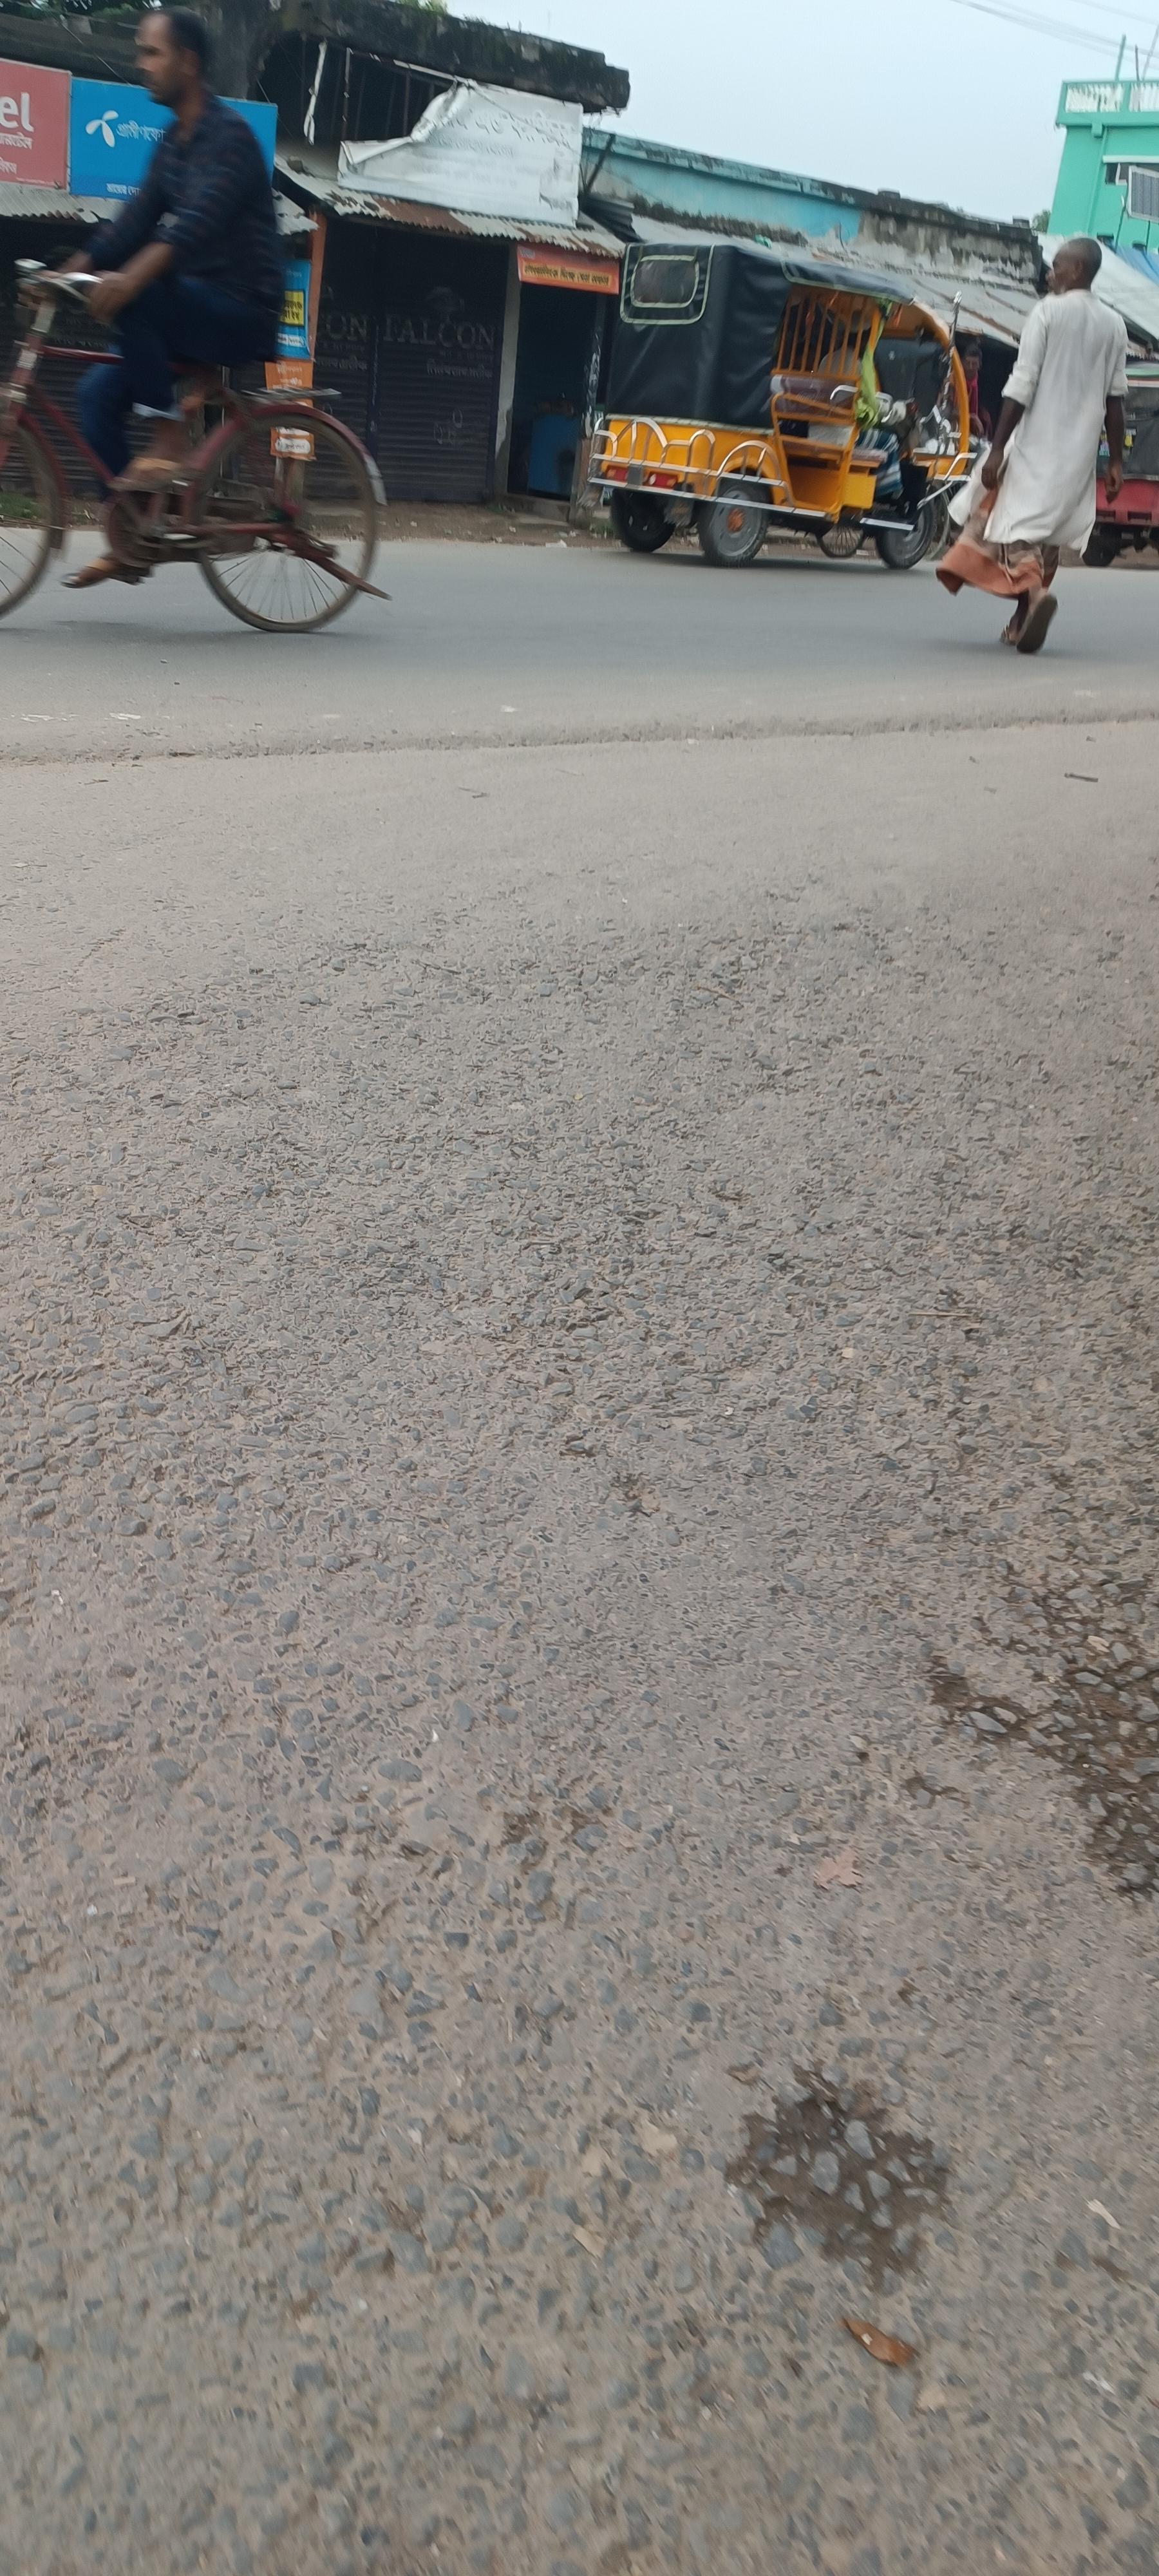Garbage-bin: (46, 8, 287, 586), (937, 235, 1133, 654)
Traffic-cone: (578, 268, 983, 570)
